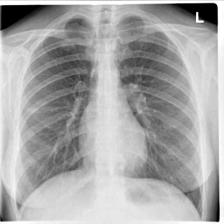tuberculosis: (10, 8, 206, 221)
